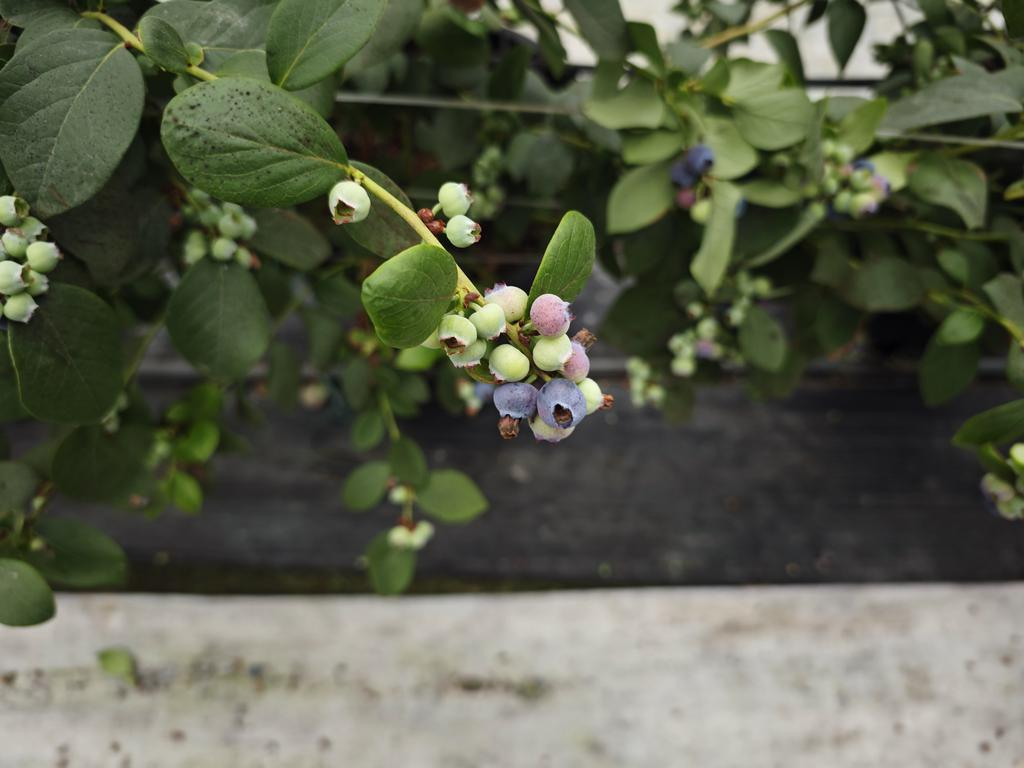RipeBlueBerry: (541, 379, 596, 442), (492, 377, 546, 428), (537, 298, 573, 348)
Semi-RipeBlueBerry: (490, 340, 531, 386)
UnripeBlueBerry: (422, 167, 477, 219), (321, 177, 373, 220), (444, 312, 480, 363)
